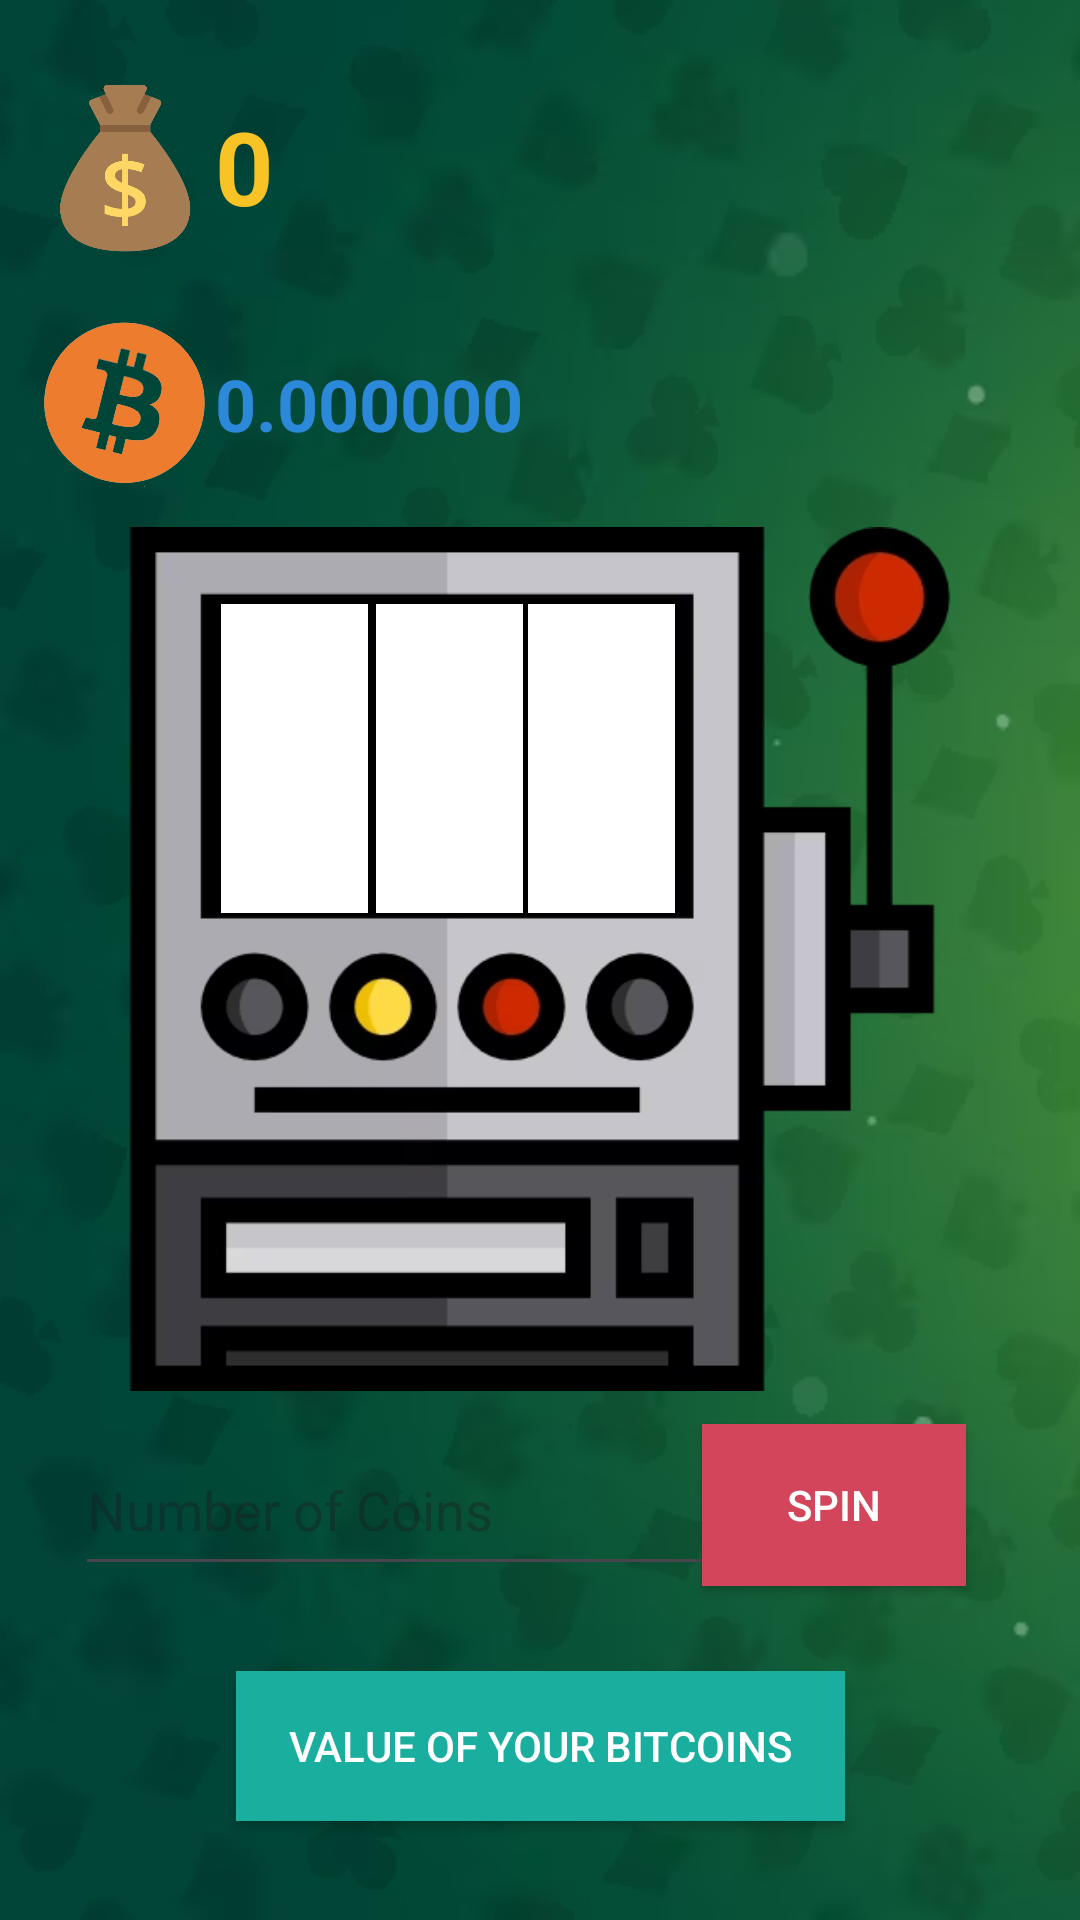

Icons on this 1080 x 1920 Android screen, each with the point to tap as (x,y):
coin bag remvebg: (125,168)
